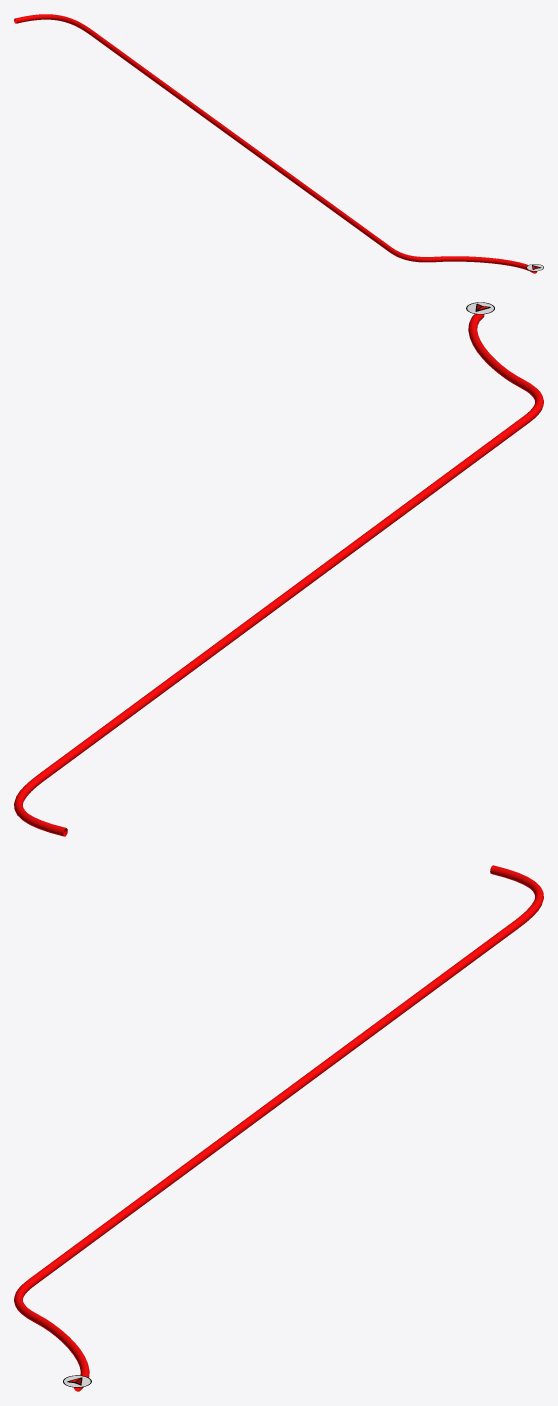
The model's file is route_0bacd45c-e480-409d-999b-d9b44d5862e0_de_single.glb.
The picture shows the model from 3 angles, top to bottom: view 1: azimuth 30°, elevation 25°; view 2: azimuth 150°, elevation 25°; view 3: azimuth 330°, elevation 25°; orthographic projection. The views are drawn at different scales.
Visible parts, largest first — view 1: Werkstatt.001; view 2: Werkstatt.001; view 3: Werkstatt.001.
Part boxes in pixels (x1,y1,x2,y2): Werkstatt.001: [14, 14, 537, 273]; Werkstatt.001: [14, 314, 543, 836]; Werkstatt.001: [14, 865, 543, 1391].
Bounding box in the file's own units: 2.39 × 0.1062 × 11.5.
